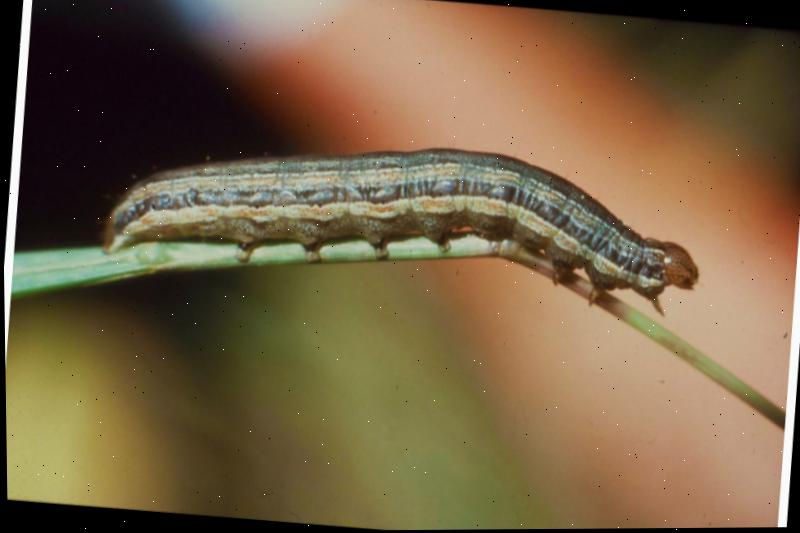fall-armyworm: (100, 148, 700, 319)
